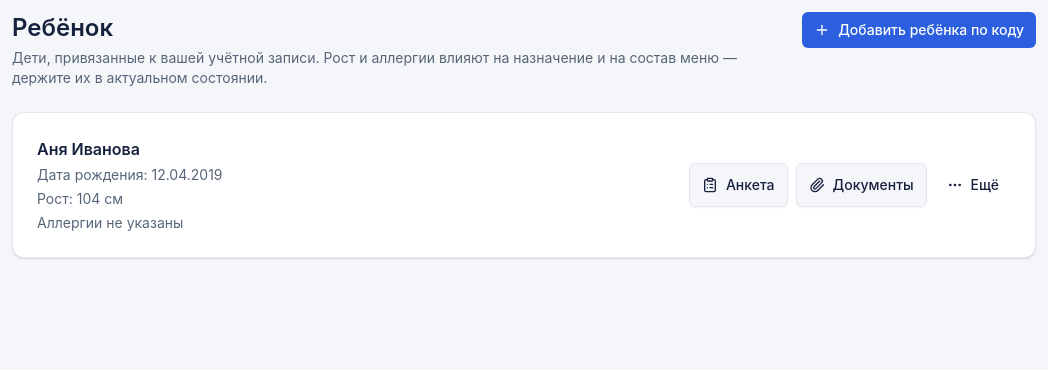
Scenario: карточка ребёнка (правило П31) › на виду два дела, остальное в меню «Ещё»; подписи называют ребёнка
The width and height of the screenshot is (1048, 370).
Check: the text "Аня Иванова" is shown, box [37,139,140,159]
Check: the button with aria-label "Анкета — Аня Иванова" is shown, box [689,163,788,207]
Step 1. Click the button with aria-label "Ещё — Аня Иванова" → (973,185), box [935,163,1011,207]
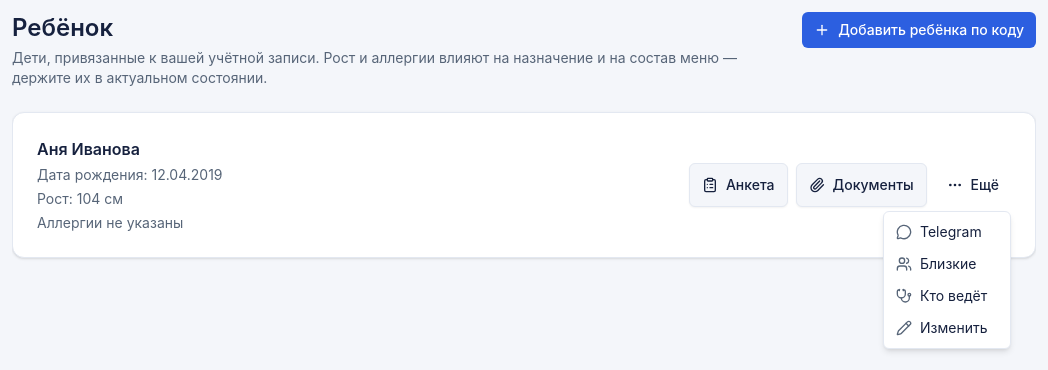
Check: the menu item "Telegram" is shown, box [896,223,982,240]
Check: the menu item "Близкие" is shown, box [896,255,976,272]
Check: the menu item "Кто ведёт" is shown, box [896,287,987,304]
